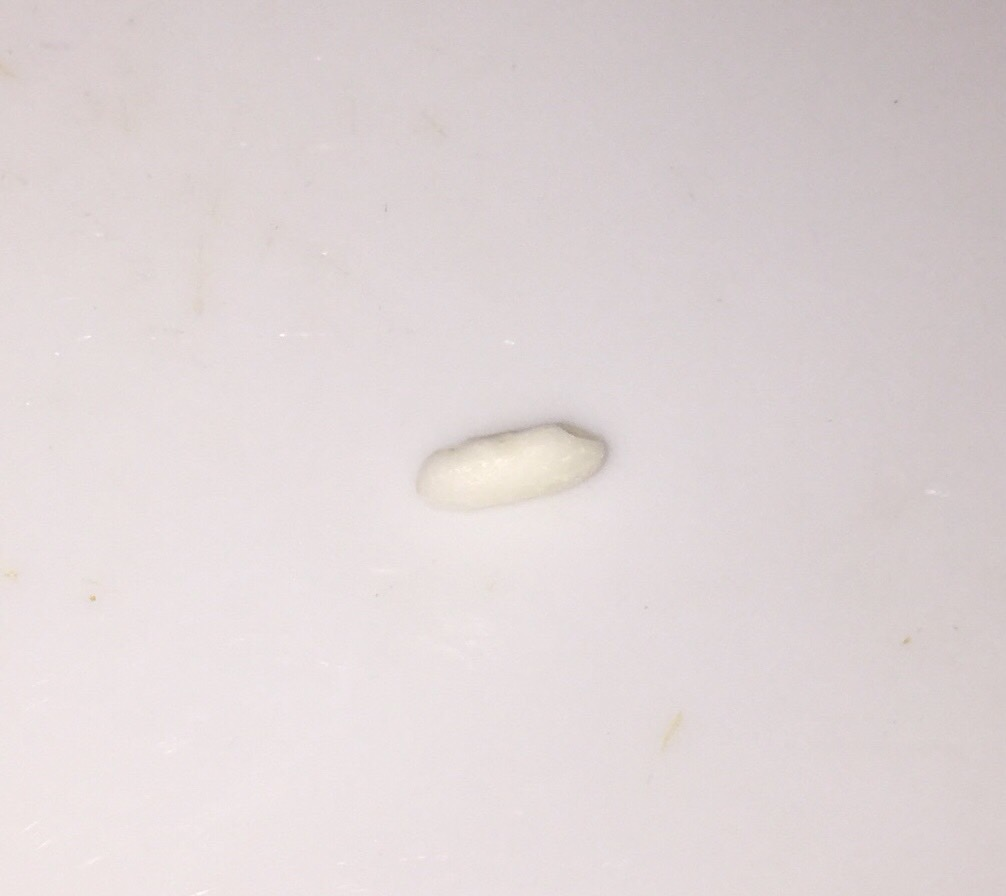Gao Nep Sap: (399, 385, 641, 532)
